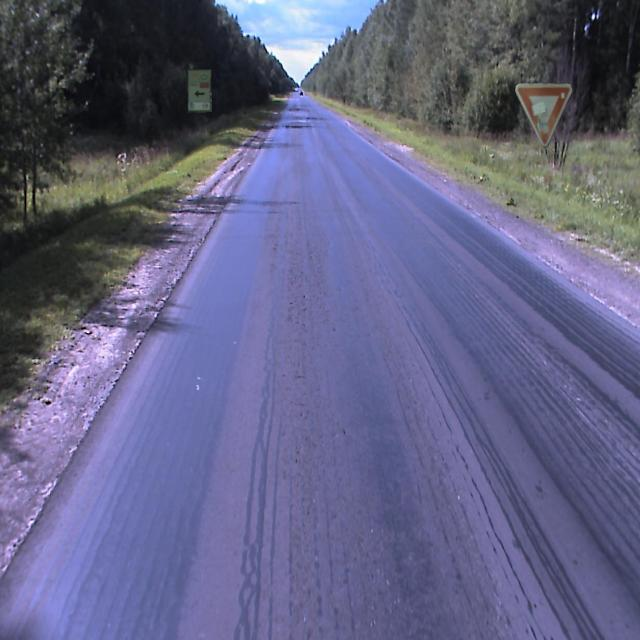road: (0, 88, 639, 639)
